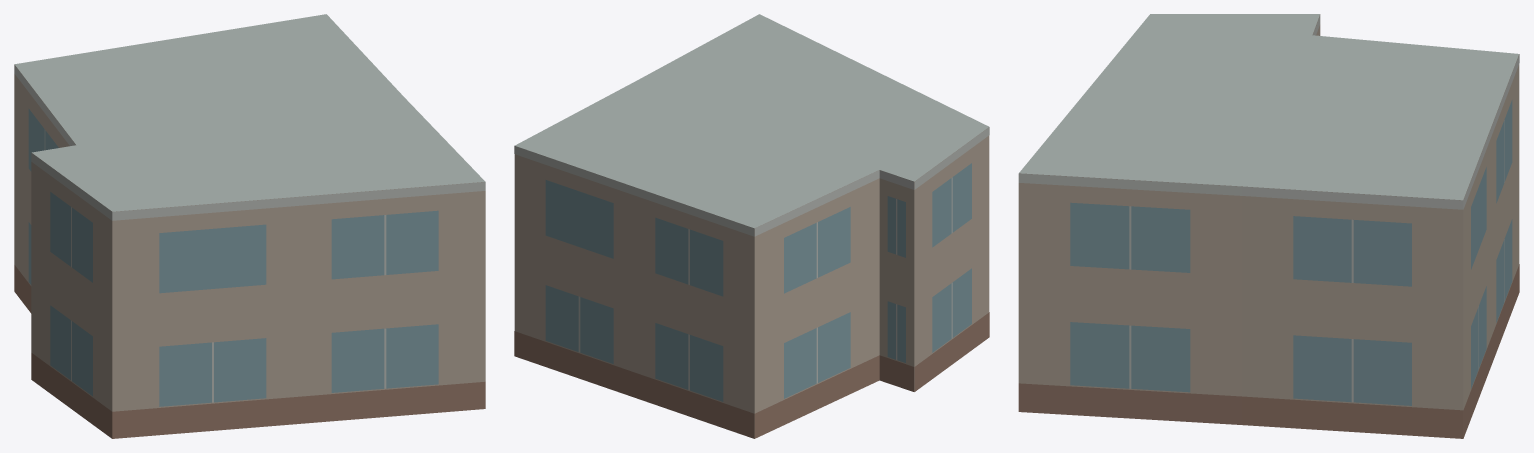
File: survey-upis-32478991.glb
3 views of the same model, side by side, from view 1: azimuth 30°, elevation 25°; view 2: azimuth 150°, elevation 25°; view 3: azimuth 270°, elevation 25° (orthographic). The views are drawn at different scales.
Parts seen in each view (by area): view 1: survey-upis-32478991.tmp; view 2: survey-upis-32478991.tmp; view 3: survey-upis-32478991.tmp.
Boxes of the visible parts, x1,y1,x2,y2 form: survey-upis-32478991.tmp: (14, 14, 485, 438); survey-upis-32478991.tmp: (514, 14, 989, 438); survey-upis-32478991.tmp: (1018, 14, 1519, 438).
Bounding box in the file's own units: 10.23 × 6.1 × 11.61.
